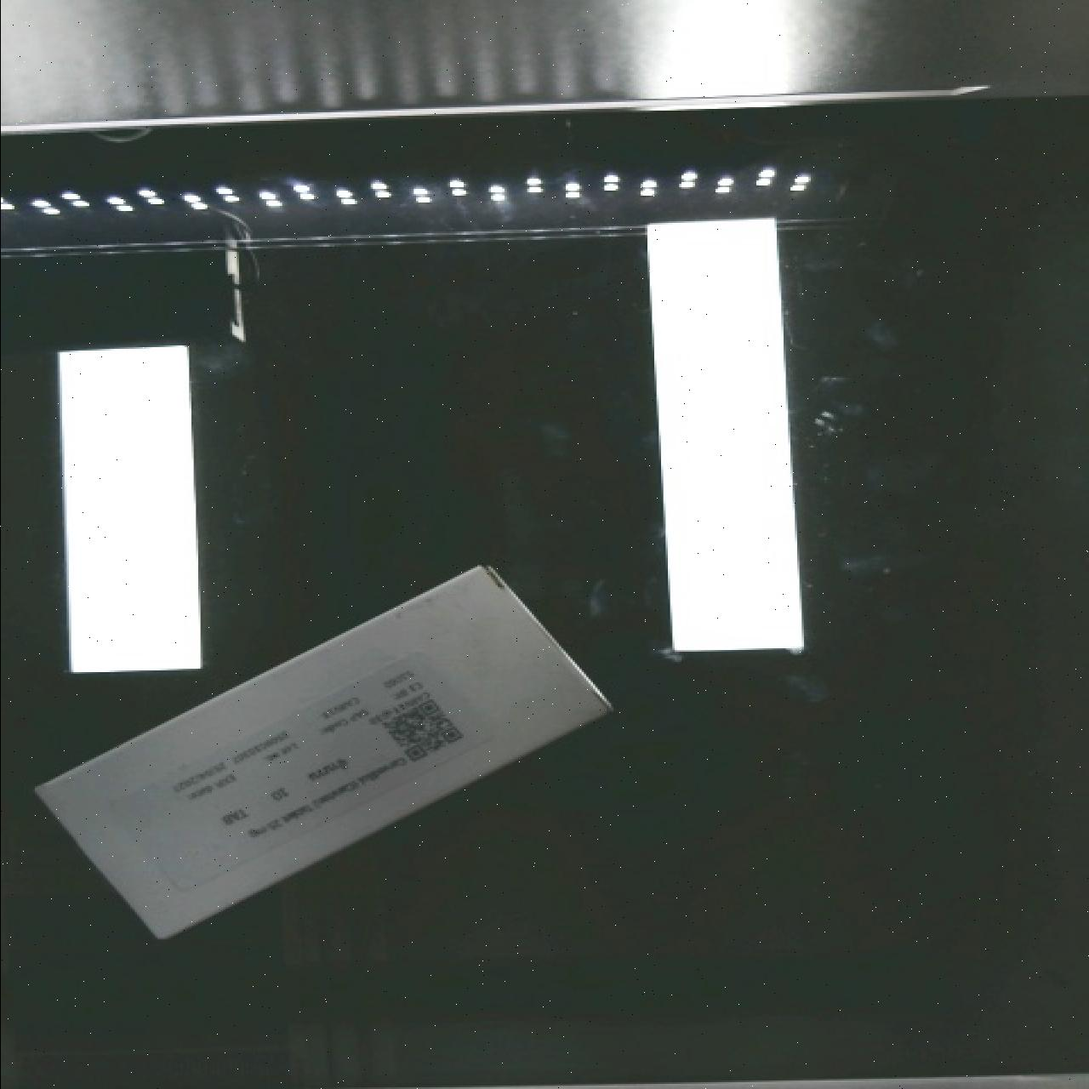qr_code: (363, 672, 479, 780)
